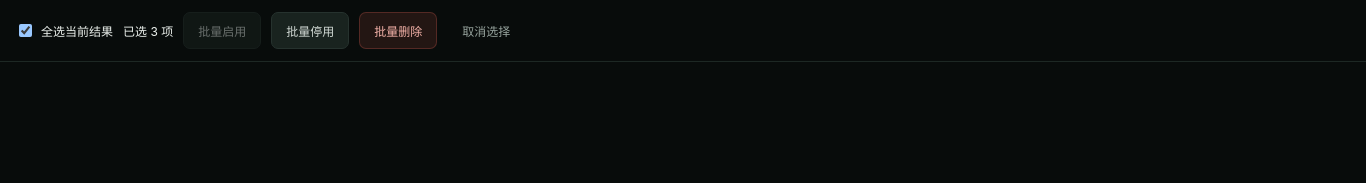
包批量操作 › 继续处理被明确拒绝的条目，轮询结果不确定时停止后续提交
What coordinates should you click on to do the following:
click the button "批量删除"
I would click on:
 (398, 30)
Its box is [359,12,437,49].
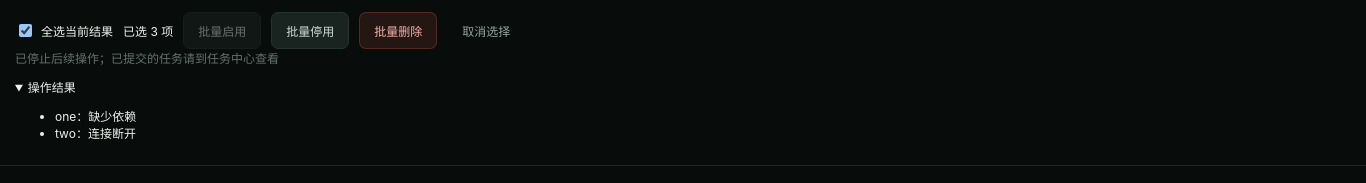
Expected: the text "已选 3 项" is shown, [123,22,173,39]
Now the list item "two：连接断开" is shown, box [55,126,136,141]
Now the list item "one：缺少依赖" is shown, box [55,109,136,124]
